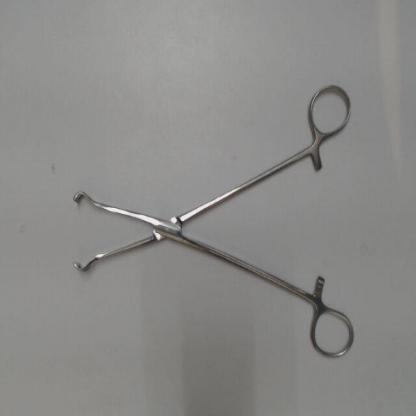8 Babcock Tissue Forceps: (64, 78, 360, 366)
